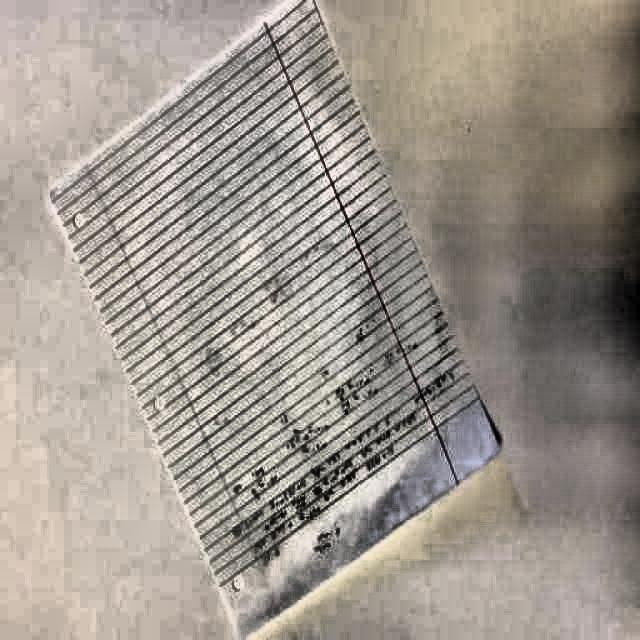Paper: (49, 0, 498, 637)
